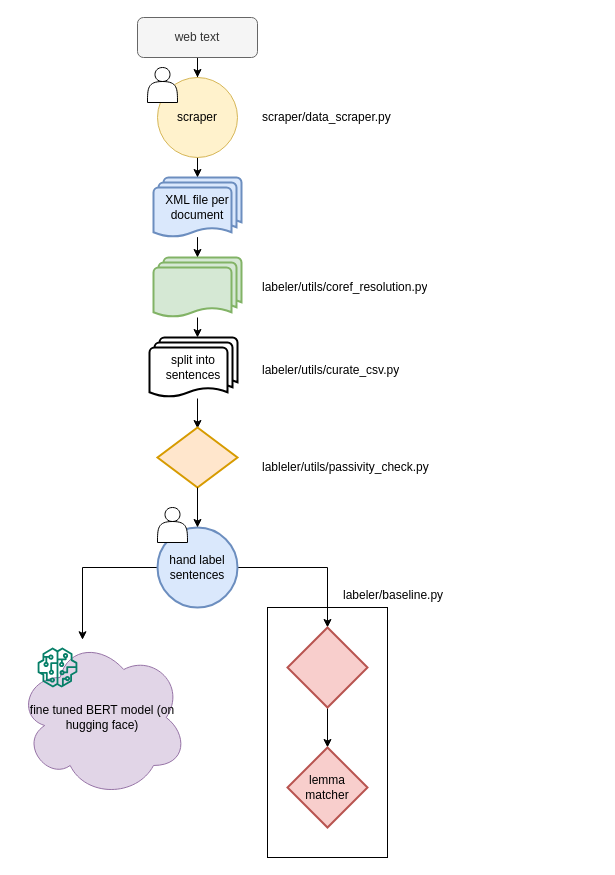
The diagram is 615 pixels wide and 875 high, and some of its shapes have lost their labels. Each missing label, with the centre of its shape:
"coreference resolution" belongs at (197,287).
"lemmatizer" belongs at (327,667).
"passive checker" belongs at (197,457).
